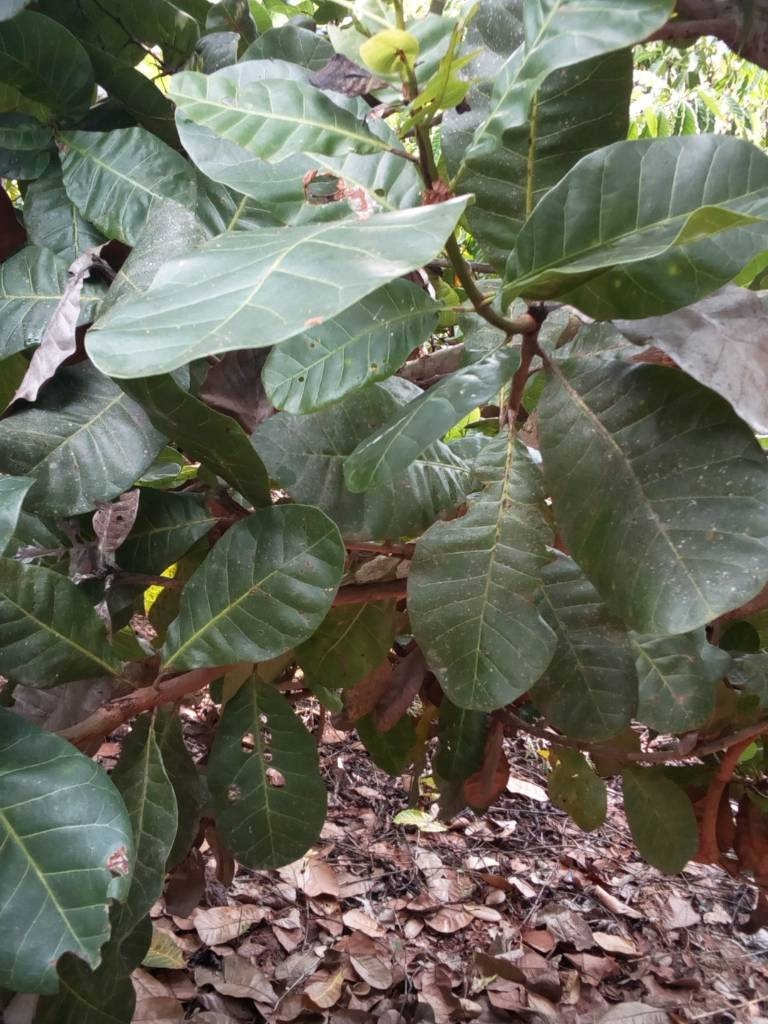Oidium: (543, 333, 764, 675), (397, 425, 608, 727), (260, 364, 465, 497)
